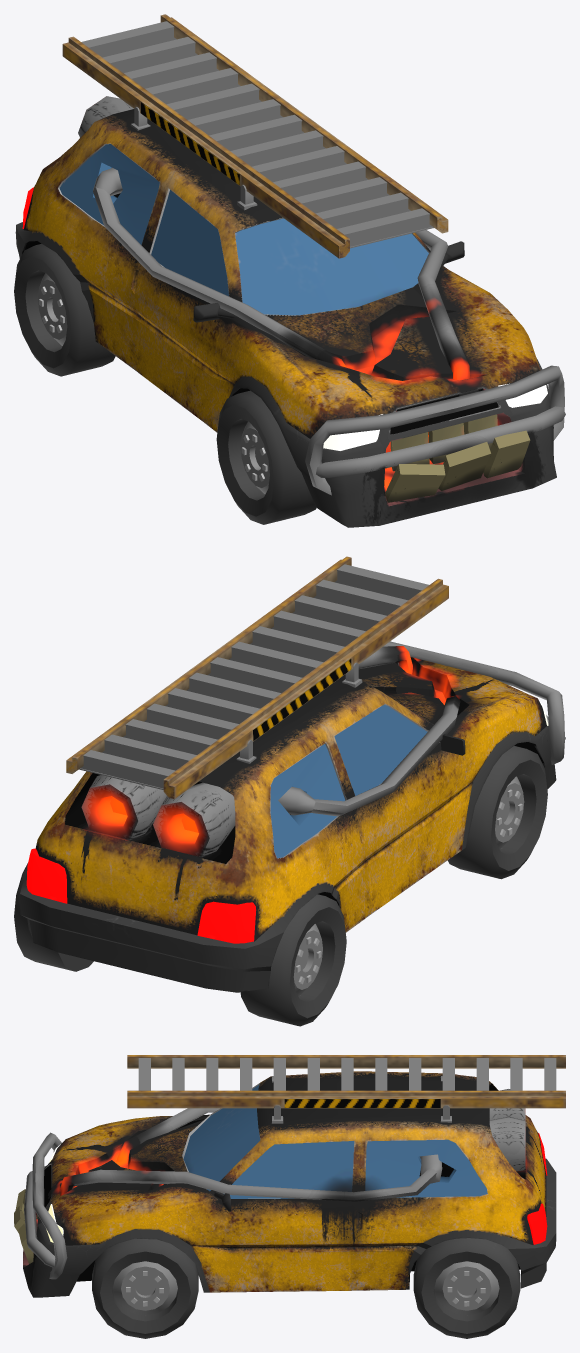
The model's file is Fiet-Mutate.fbx.
3 views of the same model, one above another, from view 1: azimuth 30°, elevation 25°; view 2: azimuth 150°, elevation 25°; view 3: azimuth 270°, elevation 25° (orthographic). The views are drawn at different scales.
Visible parts, largest first — view 1: FietMutate, FietMutateW-FR, FietMutateW-BR; view 2: FietMutate, FietMutateW-BR, FietMutateW-FR, FietMutateW-BL; view 3: FietMutate, FietMutateW-BL, FietMutateW-FL.
Part boxes in pixels (<box>): FietMutate: <box>15,14,565,527</box>; FietMutateW-FR: <box>216,390,316,524</box>; FietMutateW-BR: <box>14,243,115,376</box>; FietMutate: <box>19,556,565,992</box>; FietMutateW-BR: <box>240,894,346,1026</box>; FietMutateW-FR: <box>448,746,547,879</box>; FietMutateW-BL: <box>14,863,93,971</box>; FietMutate: <box>14,1055,565,1297</box>; FietMutateW-BL: <box>413,1238,520,1338</box>; FietMutateW-FL: <box>92,1238,198,1338</box>.
Bounding box in the file's own units: 209 × 193 × 453.
